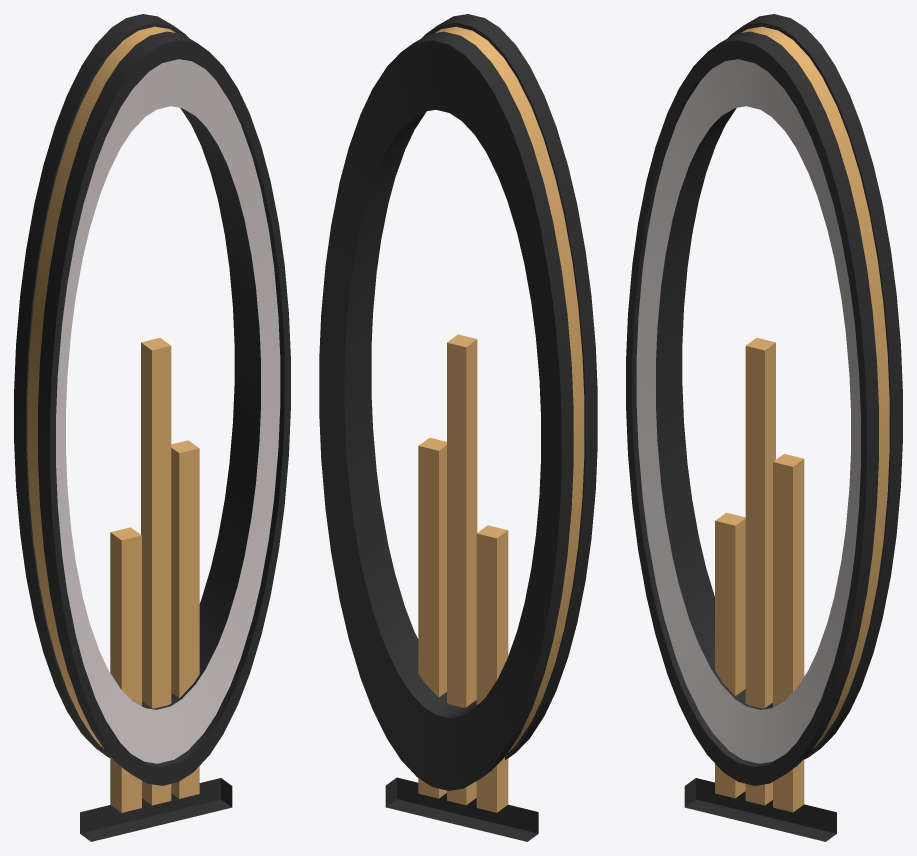
Rendered from LightFloor5.fbx.
3 views of the same model, side by side, from view 1: azimuth 30°, elevation 25°; view 2: azimuth 150°, elevation 25°; view 3: azimuth 330°, elevation 25° (orthographic).
Parts seen in each view (by area): view 1: LightFloor5; view 2: LightFloor5; view 3: LightFloor5.
Boxes of the visible parts, x1=… form: LightFloor5: x1=14, y1=14, x2=290, y2=841; LightFloor5: x1=319, y1=14, x2=597, y2=841; LightFloor5: x1=626, y1=14, x2=902, y2=841.
Size of the model in its own units: 71.84 by 225 by 18.53.
